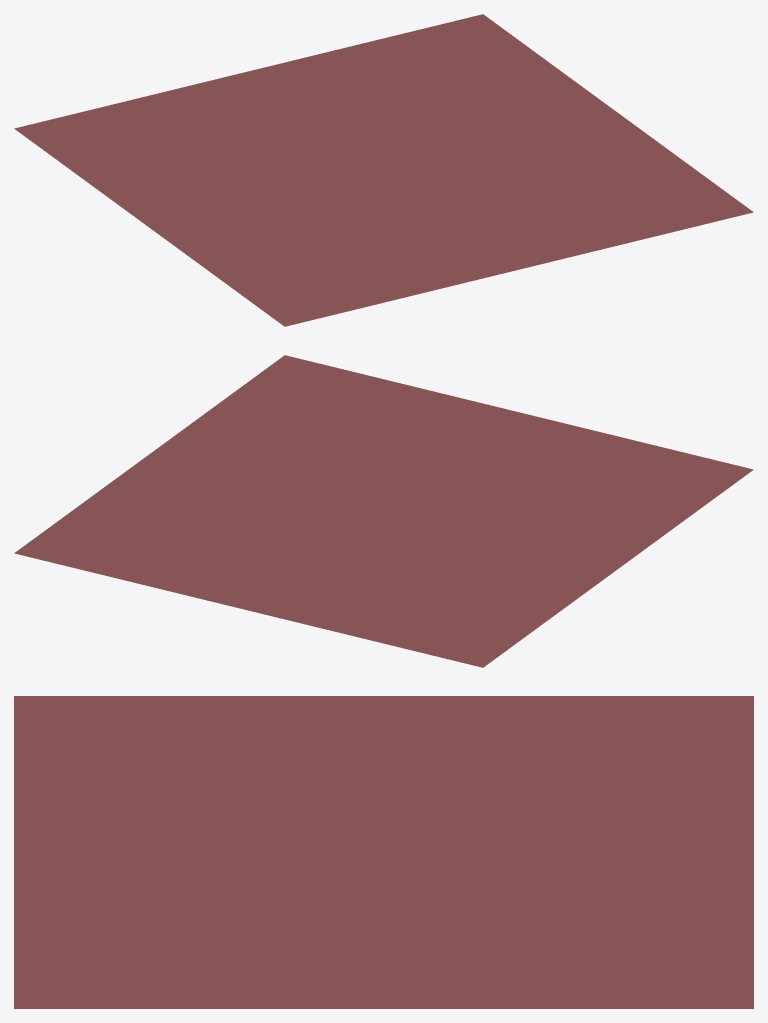
The model's file is SM_FloorPool4mWater.fbx.
3 views of the same model, one above another, from view 1: azimuth 30°, elevation 25°; view 2: azimuth 150°, elevation 25°; view 3: azimuth 270°, elevation 25° (orthographic). The views are drawn at different scales.
Parts seen in each view (by area): view 1: SM_FloorPool4mWater; view 2: SM_FloorPool4mWater; view 3: SM_FloorPool4mWater.
Part boxes in pixels (left/top/right/bottom): SM_FloorPool4mWater: left=14, top=14, right=753, bottom=326; SM_FloorPool4mWater: left=14, top=355, right=753, bottom=667; SM_FloorPool4mWater: left=14, top=696, right=753, bottom=1008.
Size of the model in its own units: 360 by 2.49e-14 by 360.
